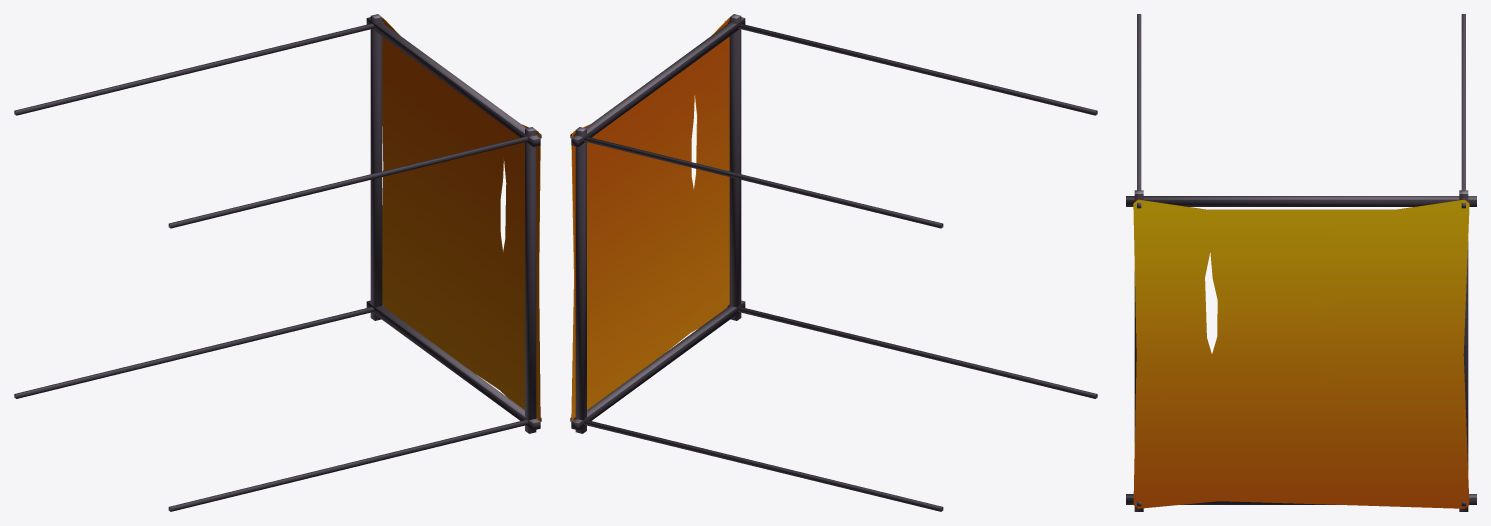
The model's file is Safety_Net_2E.fbx.
3 views of the same model, side by side, from view 1: azimuth 30°, elevation 25°; view 2: azimuth 150°, elevation 25°; view 3: azimuth 270°, elevation 25° (orthographic). The views are drawn at different scales.
Visible parts, largest first — view 1: Safety_Net_2E; view 2: Safety_Net_2E; view 3: Safety_Net_2E.
Boxes of the visible parts, x1,y1,x2,y2 form: Safety_Net_2E: (14, 14, 541, 511); Safety_Net_2E: (570, 14, 1097, 511); Safety_Net_2E: (1126, 14, 1476, 511).
Bounding box in the file's own units: 513 × 400 × 400.
